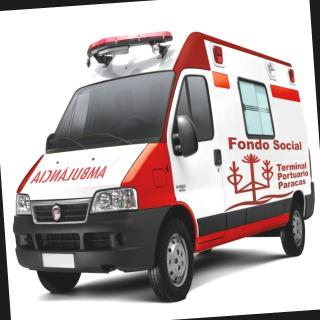Ambulance: (1, 6, 320, 319)
